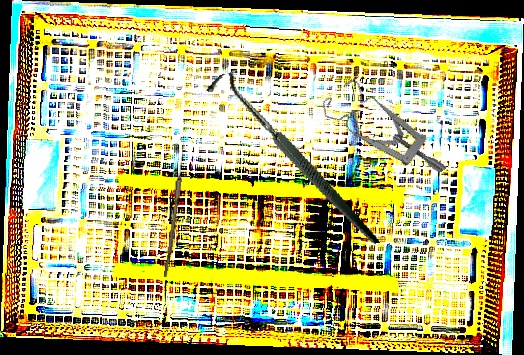Hook Surgical: (203, 46, 380, 276)
Speculum: (315, 60, 449, 209)
Surgical Spoon: (163, 142, 187, 278)
